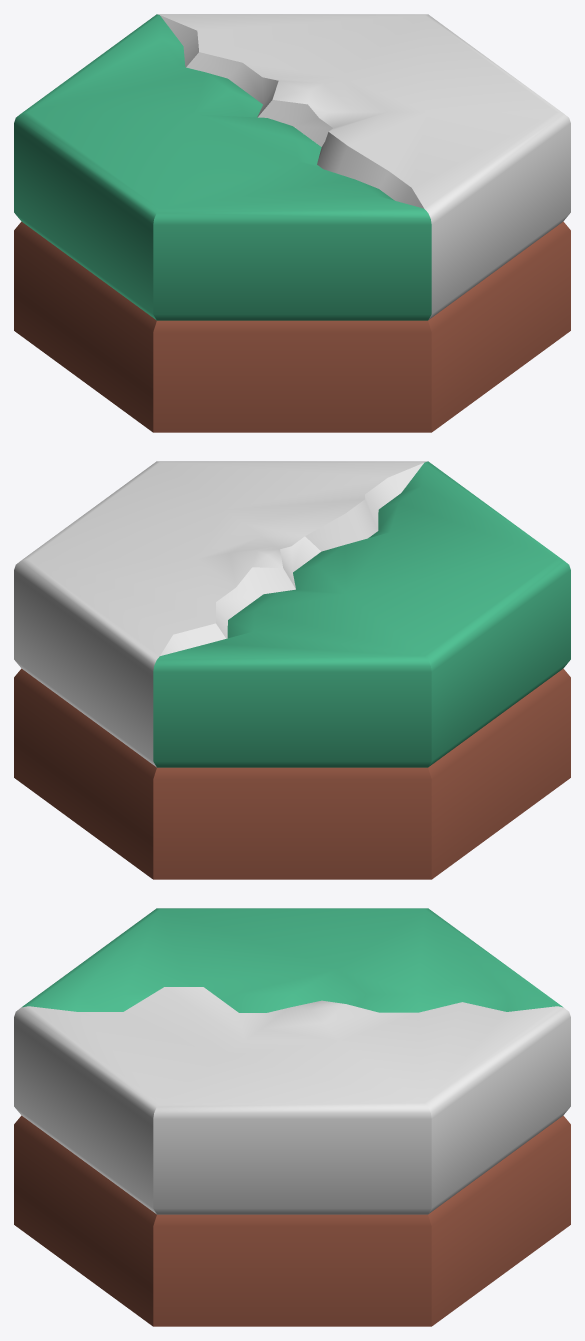
File: kaykit-hex-forest-transitionb.glb
3 renders of one model, top to bottom at view 1: azimuth 30°, elevation 25°; view 2: azimuth 150°, elevation 25°; view 3: azimuth 270°, elevation 25°, orthographic.
Parts seen in each view (by area): view 1: hex_forest_transitionB; view 2: hex_forest_transitionB; view 3: hex_forest_transitionB.
Part boxes in pixels (box(x1,y1,x2,y2)): hex_forest_transitionB: box(14, 14, 570, 432); hex_forest_transitionB: box(14, 461, 570, 879); hex_forest_transitionB: box(14, 908, 570, 1326).
Size of the model in its own units: 2 by 1.07 by 2.31.
